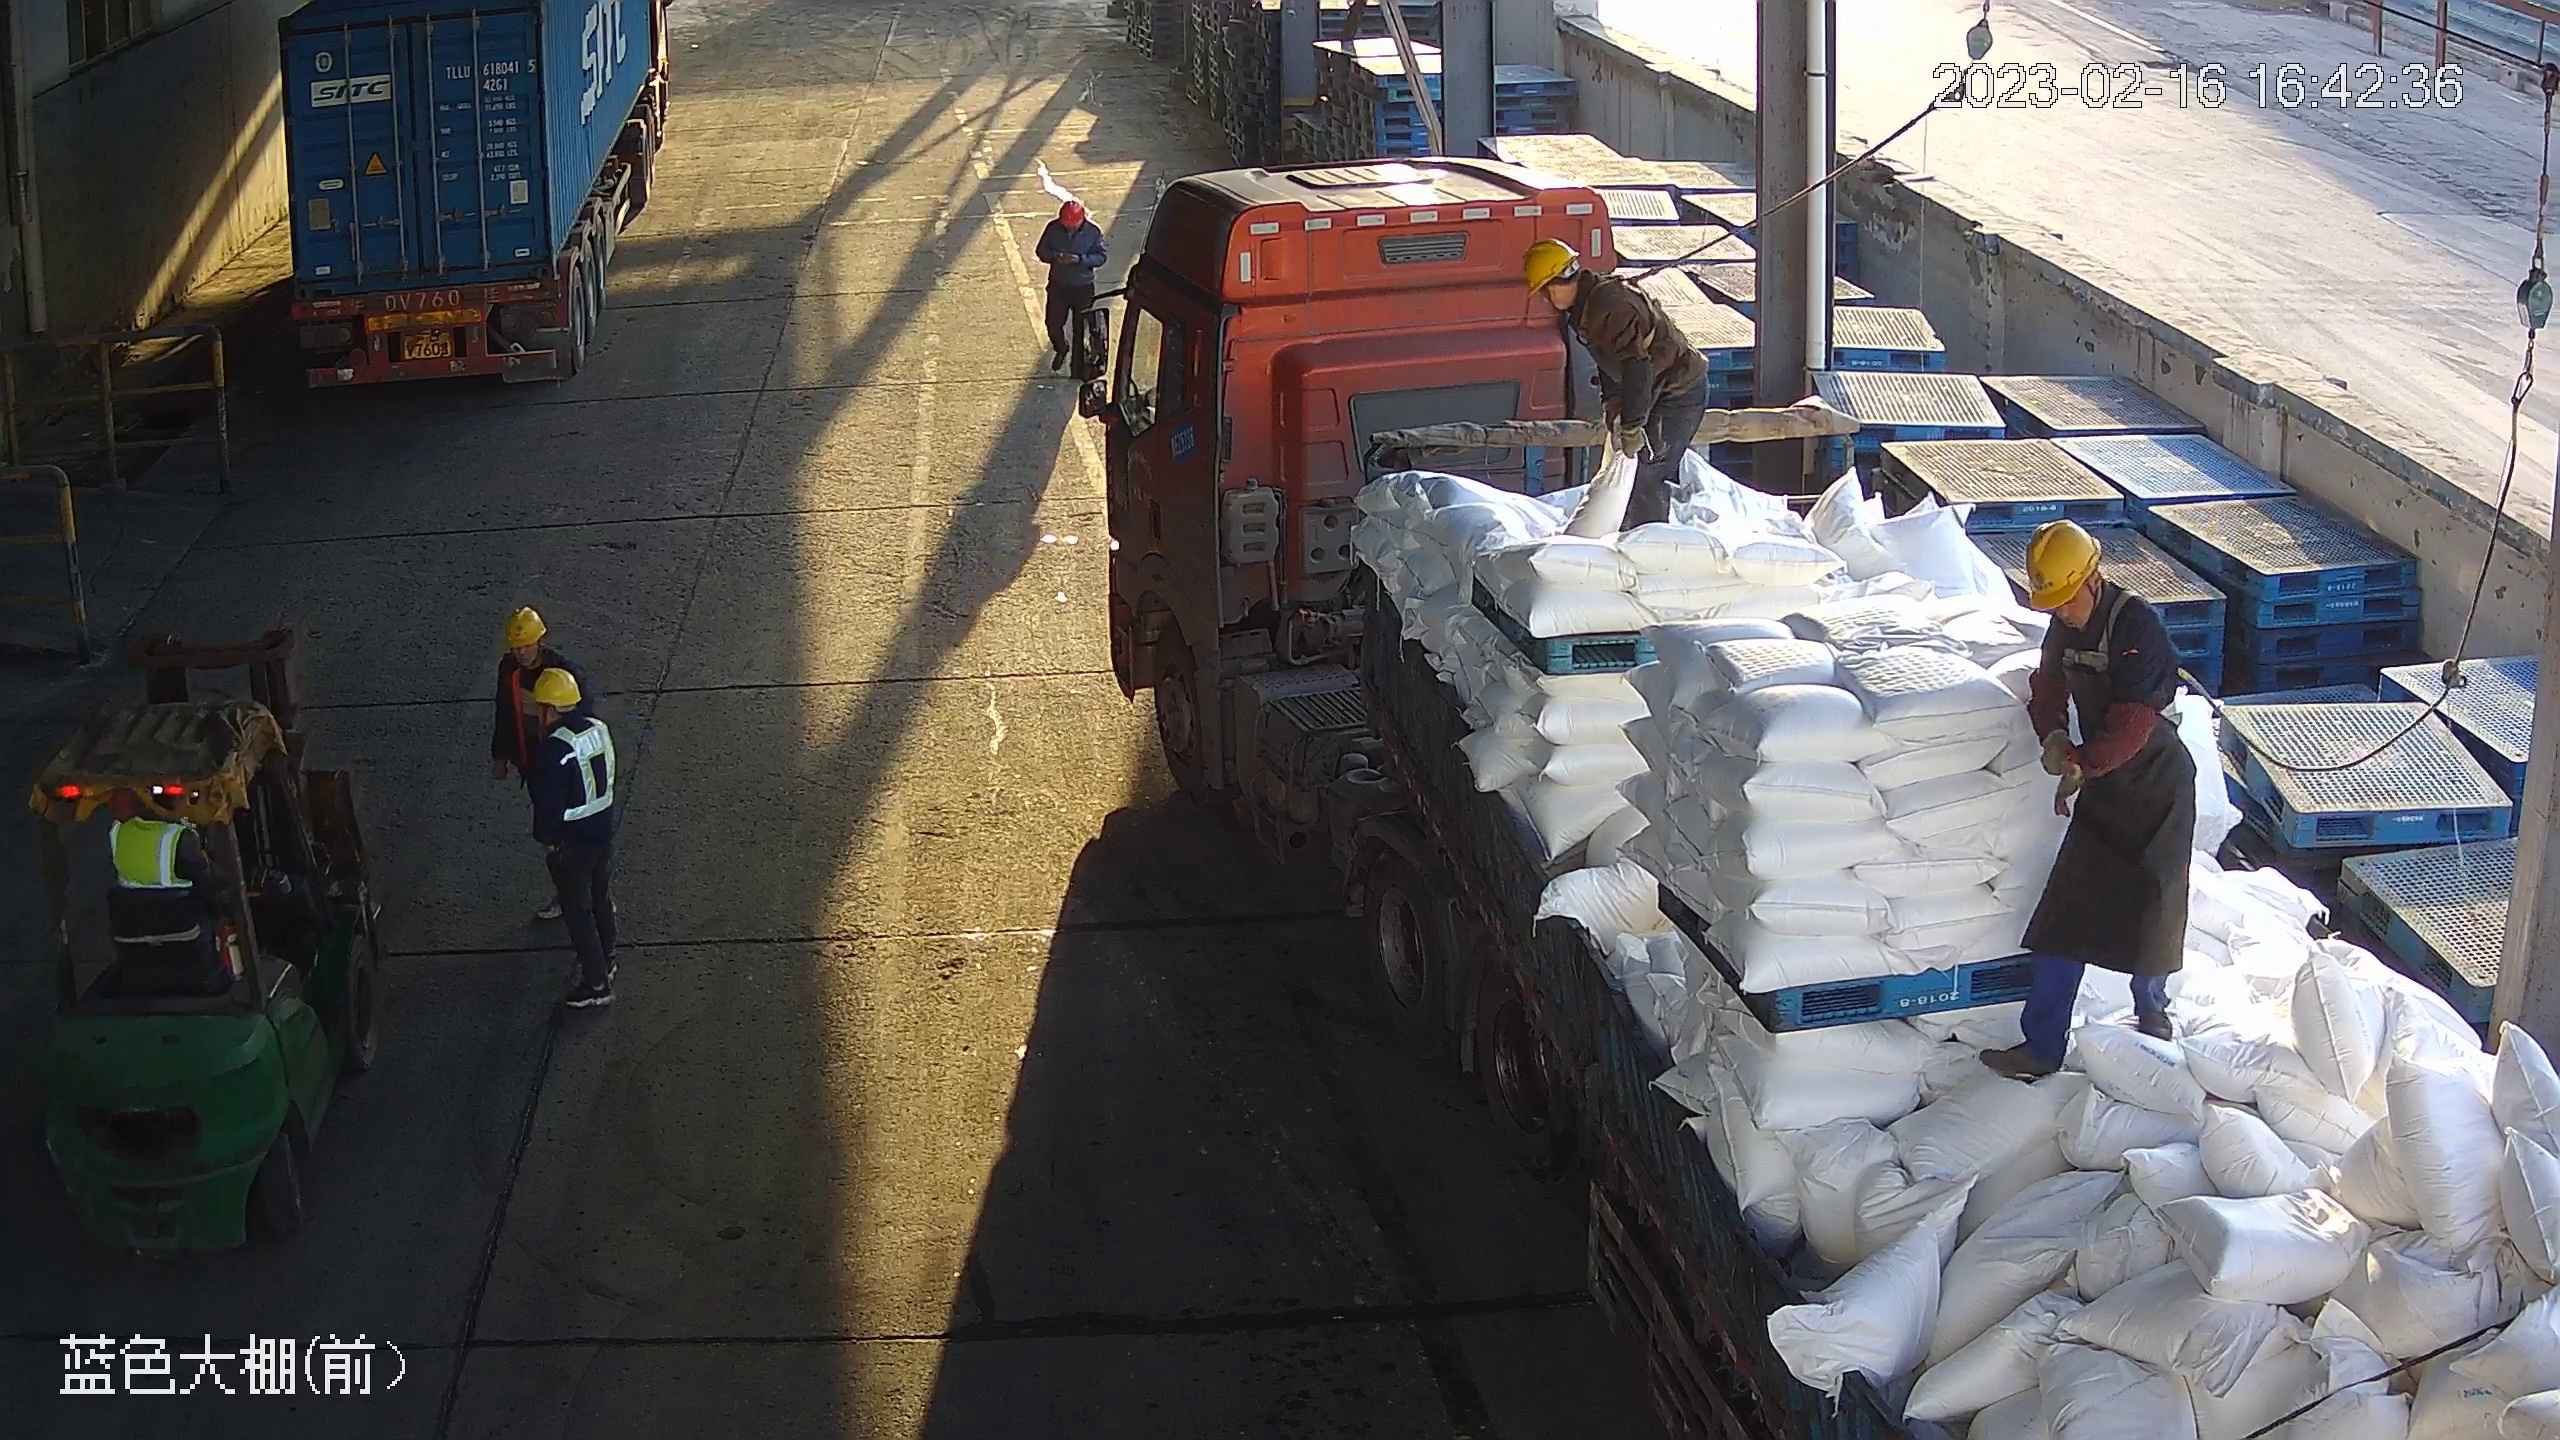belt: (1578, 270, 1679, 355)
head: (2013, 524, 2170, 690), (1522, 239, 1647, 349), (491, 606, 590, 709), (533, 665, 617, 777), (1039, 195, 1104, 259)
helmet: (2059, 586, 2209, 705), (2026, 519, 2104, 613), (1522, 238, 1580, 297), (531, 665, 584, 705), (505, 605, 546, 646), (1055, 200, 1087, 226)
people: (1973, 520, 2201, 1085), (1522, 238, 1712, 530), (529, 662, 627, 1017), (1031, 196, 1109, 374)
truck: (1067, 156, 2560, 1440), (269, 1, 674, 391)
